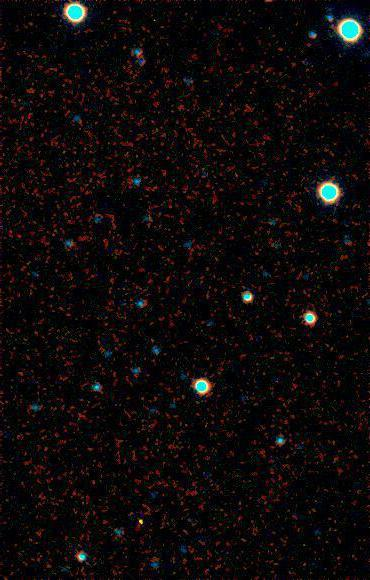star: (119, 504, 149, 534)
